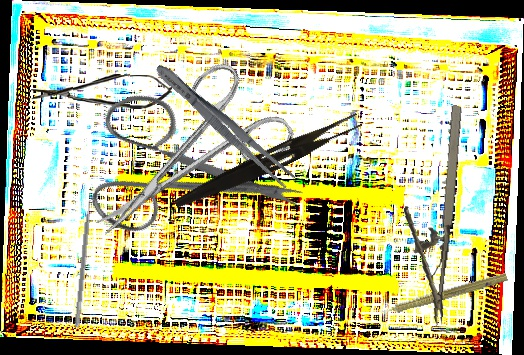Dressing Forceps: (172, 105, 363, 219), (150, 58, 298, 192)
Handpiece: (369, 267, 509, 322)
Iris Scissors: (57, 45, 310, 287), (64, 51, 300, 270)
Micro Scissor: (30, 72, 173, 110)
Needle Holder: (390, 100, 469, 327)
Spatula Surgical: (74, 196, 97, 329)
